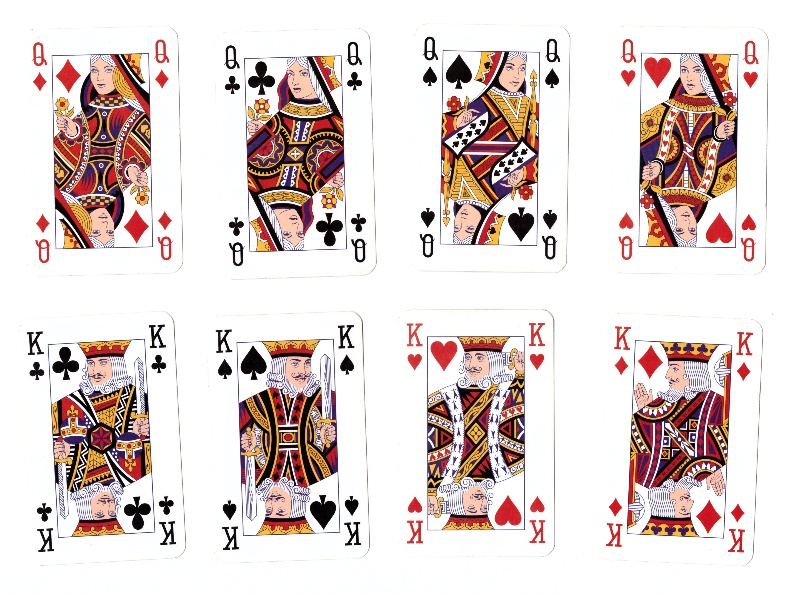Kc: (24, 329, 47, 385), (157, 493, 180, 549), (147, 322, 170, 376), (35, 501, 56, 556)
Kd: (604, 496, 626, 550), (734, 329, 755, 382), (727, 503, 748, 556), (613, 322, 631, 376)
Kh: (527, 316, 549, 372), (405, 493, 426, 547), (528, 495, 549, 546), (405, 319, 425, 372)
Ks: (336, 321, 359, 379), (214, 325, 235, 382), (343, 493, 364, 549), (219, 497, 240, 553)
Qc: (226, 213, 247, 271), (222, 42, 243, 96), (345, 37, 365, 92), (349, 211, 369, 265)
Qd: (155, 209, 176, 264), (153, 37, 172, 92), (31, 39, 49, 93), (35, 210, 52, 266)
Qh: (615, 209, 637, 264), (739, 213, 761, 268), (618, 35, 639, 90), (741, 38, 762, 91)
Qs: (417, 206, 438, 263), (541, 36, 562, 90), (541, 206, 560, 263), (420, 33, 440, 87)
